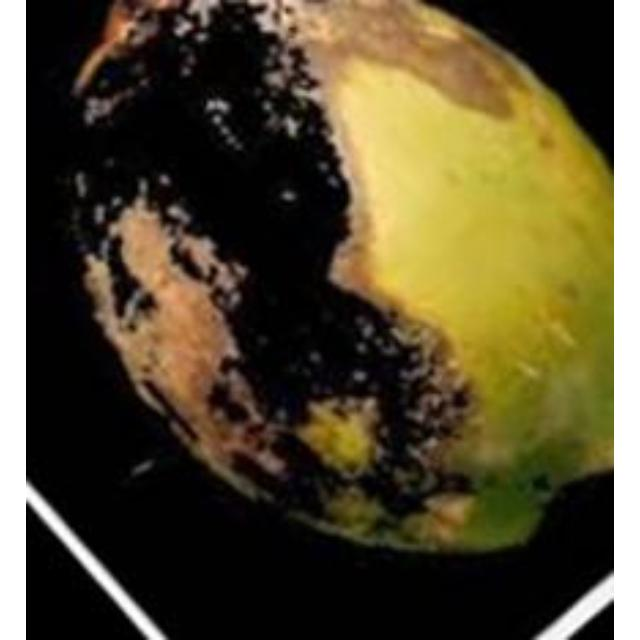damaged: (64, 0, 611, 558)
